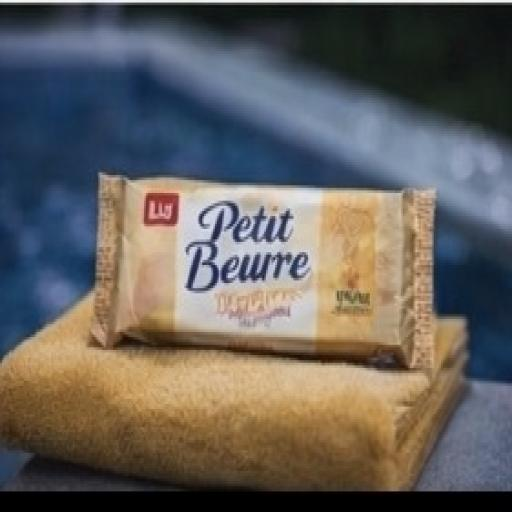petit_beurre: (58, 133, 472, 404)
